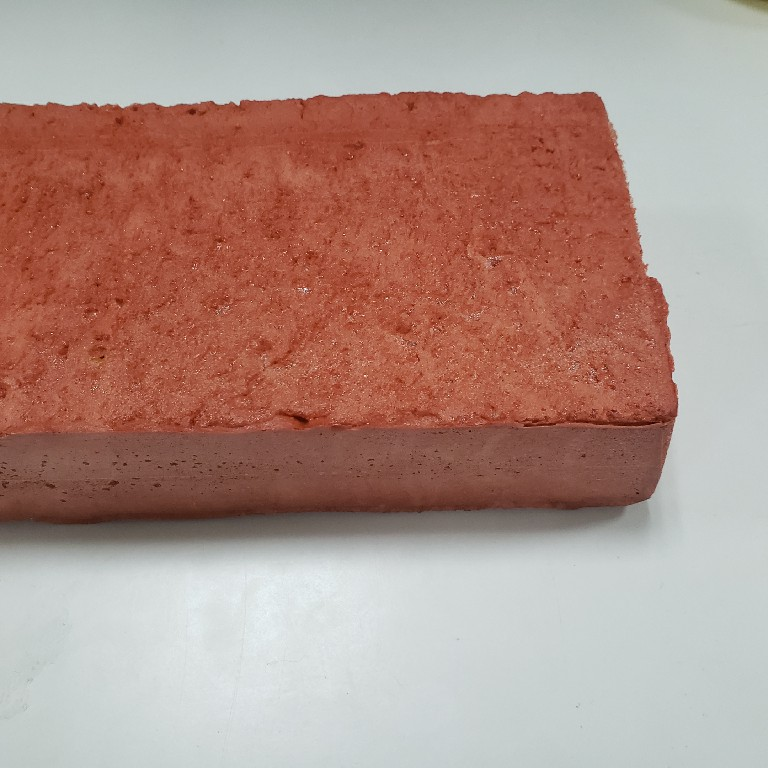brick: (1, 81, 685, 531)
